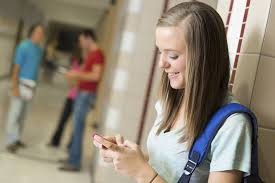Mobile-phone: (91, 130, 126, 153)
